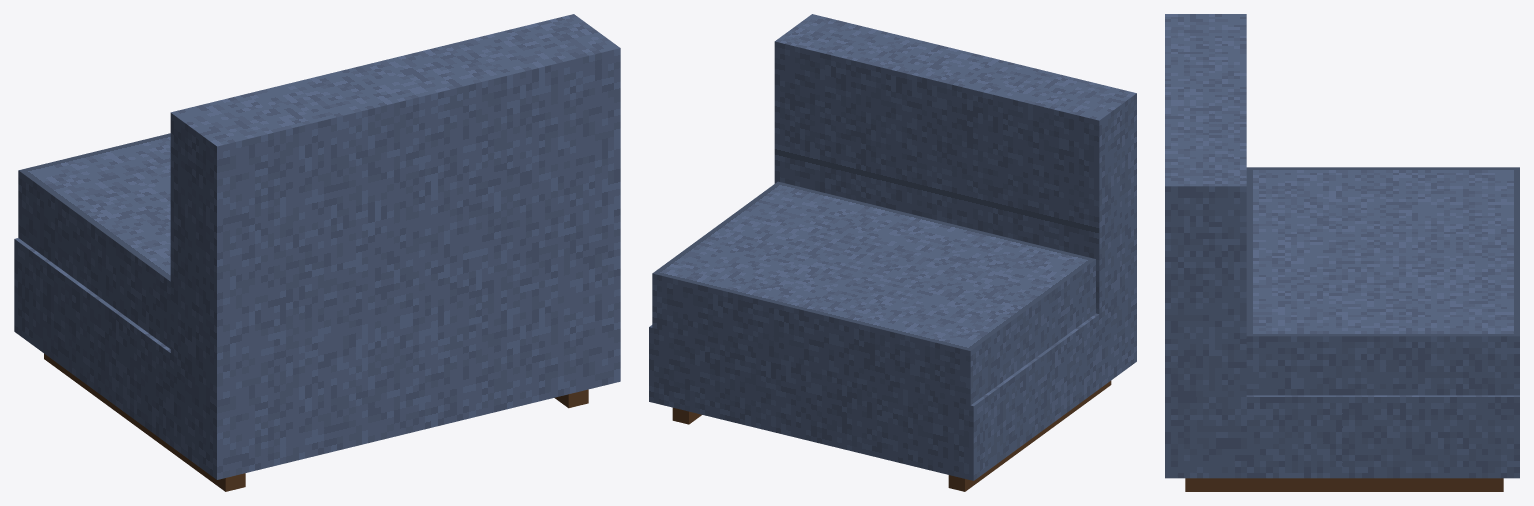
Rendered from f_sofa.glb.
3 views of the same model, side by side, from view 1: azimuth 30°, elevation 25°; view 2: azimuth 150°, elevation 25°; view 3: azimuth 270°, elevation 25° (orthographic). The views are drawn at different scales.
Visible parts, largest first — view 1: block_back, block_base, block_cushion, block_foot-0.45; view 2: block_back, block_cushion, block_base, block_foot-0.45; view 3: block_cushion, block_back, block_base, block_foot0.4.
Part boxes in pixels (<box>): block_back: <box>170,14,620,386</box>; block_base: <box>14,238,620,479</box>; block_cushion: <box>18,133,170,348</box>; block_foot-0.45: <box>44,353,245,491</box>; block_back: <box>774,14,1136,314</box>; block_cushion: <box>652,181,1095,405</box>; block_base: <box>649,287,1136,480</box>; block_foot-0.45: <box>948,381,1111,491</box>; block_cushion: <box>1246,167,1519,395</box>; block_back: <box>1165,14,1246,396</box>; block_base: <box>1165,395,1519,478</box>; block_foot0.4: <box>1185,478,1503,491</box>.
Bounding box in the file's own units: 1 × 0.85 × 0.87.
1 material, 1 textured.
